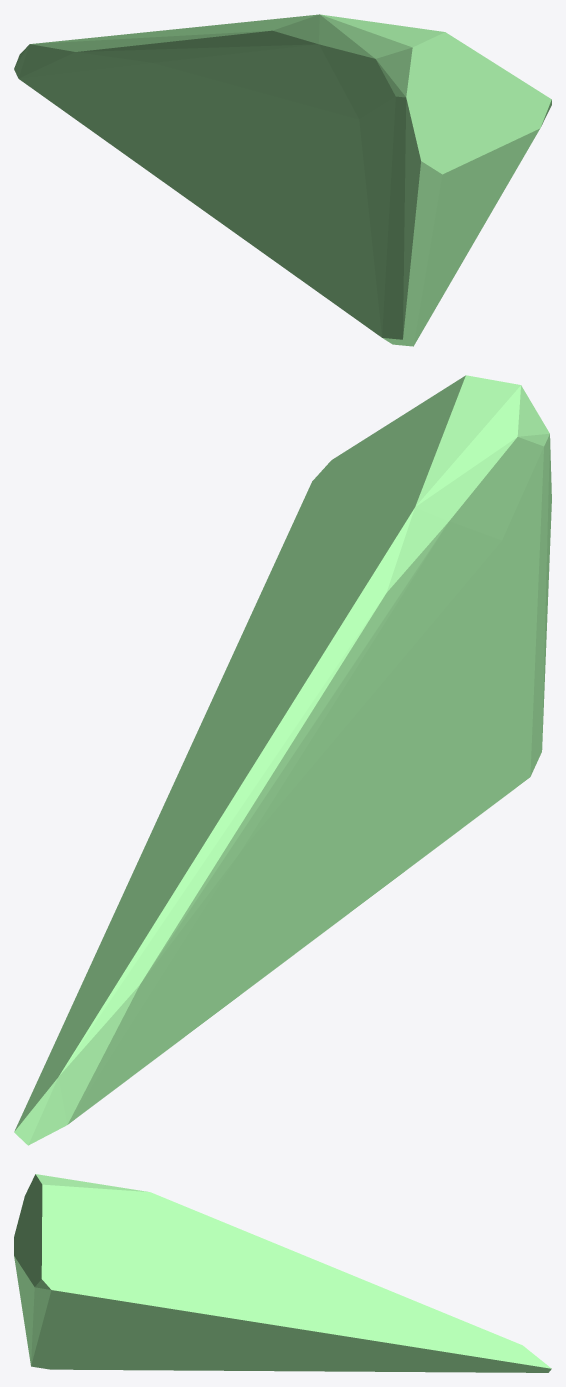
File: dvkr_robot_Lp2_respondable_PSM2_coll_5.dae
3 renders of one model, top to bottom at view 1: azimuth 30°, elevation 25°; view 2: azimuth 150°, elevation 25°; view 3: azimuth 270°, elevation 25°, orthographic. The views are drawn at different scales.
Parts seen in each view (by area): view 1: Node_0000023515113D30; view 2: Node_0000023515113D30; view 3: Node_0000023515113D30.
Part boxes in pixels (left/top/right/bottom): Node_0000023515113D30: left=14, top=14, right=551, bottom=346; Node_0000023515113D30: left=14, top=375, right=551, bottom=1145; Node_0000023515113D30: left=14, top=1174, right=551, bottom=1372.
Size of the model in its own units: 0.0288 by 0.0498 by 0.12.
